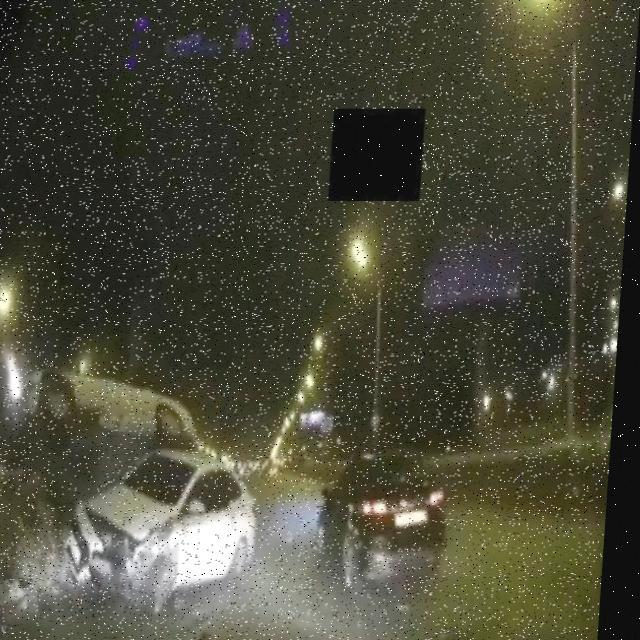multiple_accident: (0, 293, 270, 627), (58, 417, 292, 640)
normal: (300, 422, 473, 597)
